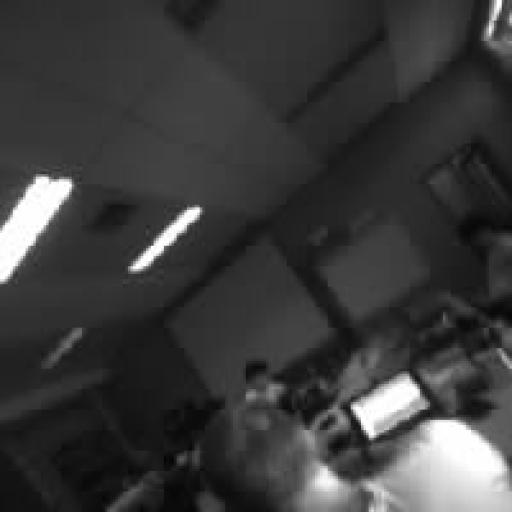human: (200, 402, 511, 511), (459, 216, 511, 299), (244, 359, 286, 404)
